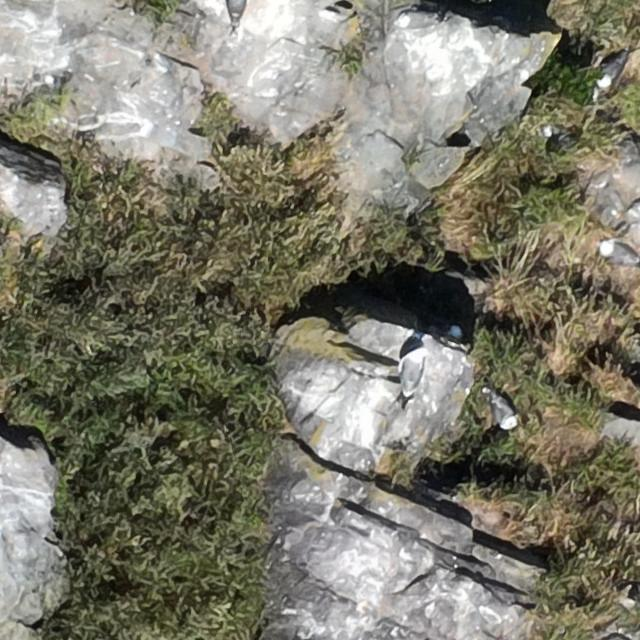umineko: (394, 10, 448, 31), (601, 242, 636, 265), (600, 56, 625, 85), (493, 397, 516, 428), (228, 0, 245, 20)
